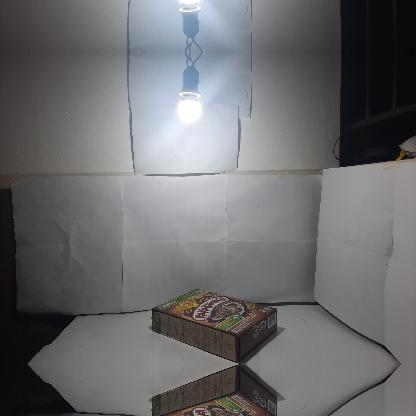Koko-Krunch: (151, 288, 277, 362), (151, 366, 278, 415)
